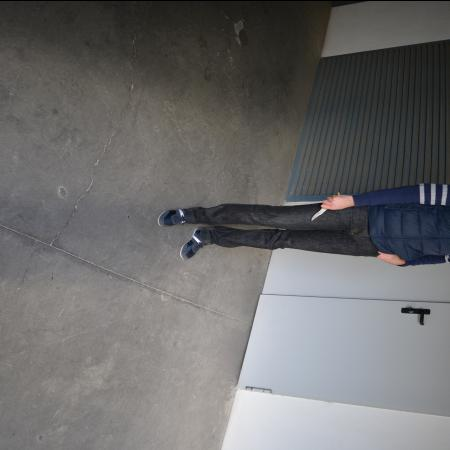long weapon: (308, 190, 343, 222)
